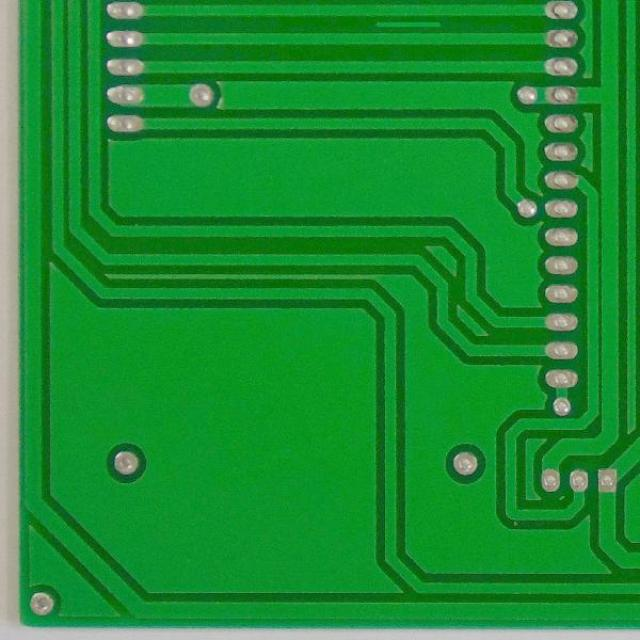Spurious_Cooper: (370, 18, 444, 32)
